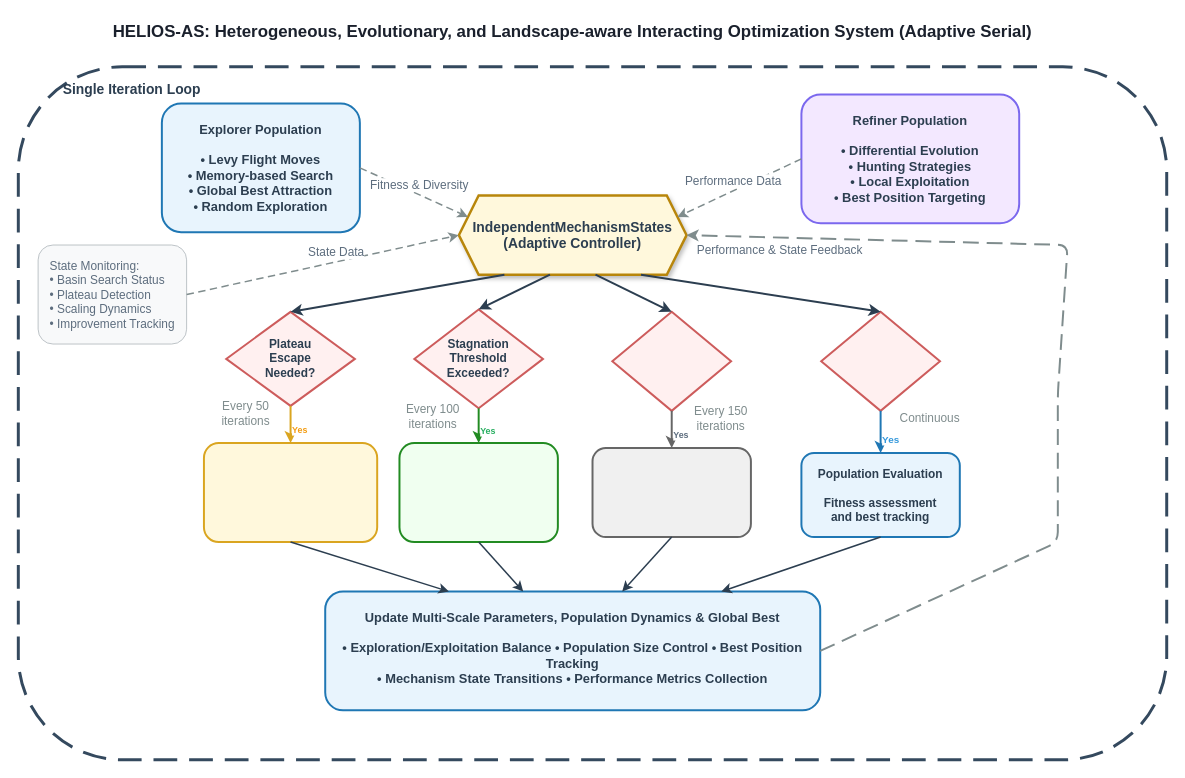
Image size: 1185x778. Some labels were removed from this diagram. The shapes that lost their labels are listed below. From the top down, each one's centre as x and y in pixels, then its label:
At [671,360]: "Basin Search Criteria?".
At [880,360]: "Evaluation Phase Required?".
At [290,492]: "Plateau Escape Maneuver Multi-directional jumps with step-size variation".
At [478,492]: "Apply L-BFGS-B Local Search High-precision refinement near global optimum".
At [671,492]: "Basin Search Mode Large-scale exploration with strategic jumps".
